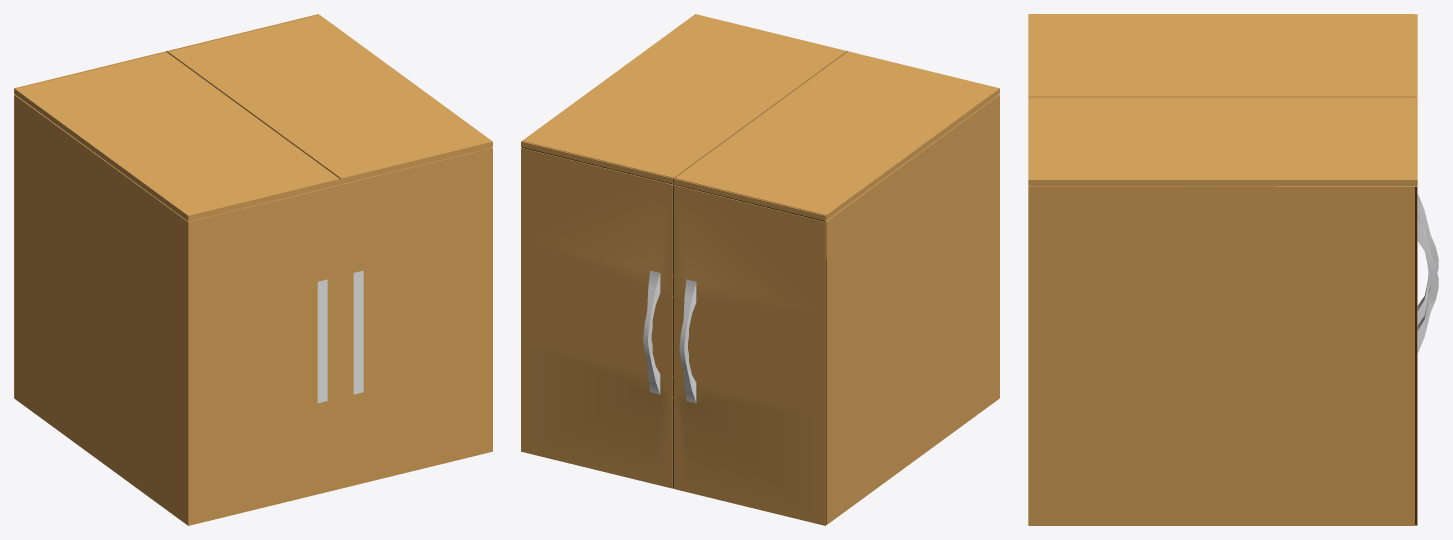
The model's file is placar.fbx.
3 renders of one model, left to right at view 1: azimuth 30°, elevation 25°; view 2: azimuth 150°, elevation 25°; view 3: azimuth 270°, elevation 25°, orthographic. The views are drawn at different scales.
Visible parts, largest first — view 1: Plane; view 2: Plane; view 3: Plane.
Part boxes in pixels (box(x1,y1,x2,y2)): Plane: box(14, 14, 492, 525); Plane: box(521, 14, 999, 525); Plane: box(1028, 14, 1438, 525).
Bounding box in the file's own units: 200 × 195 × 209.
